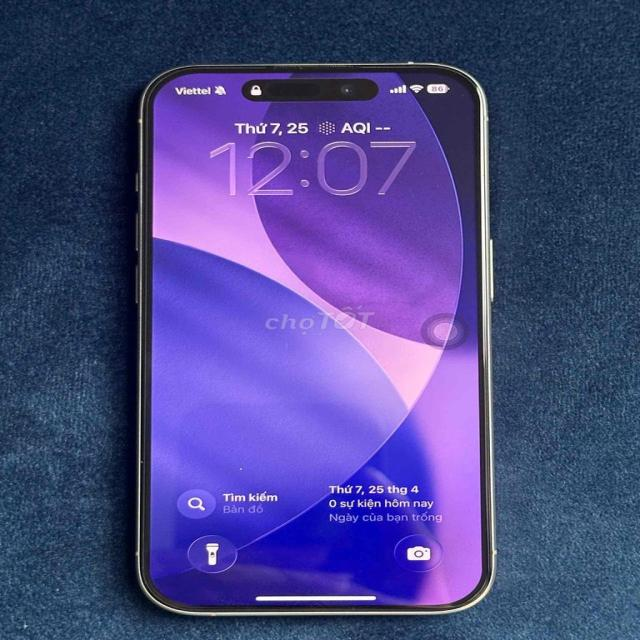gen_15: (117, 35, 504, 617)
